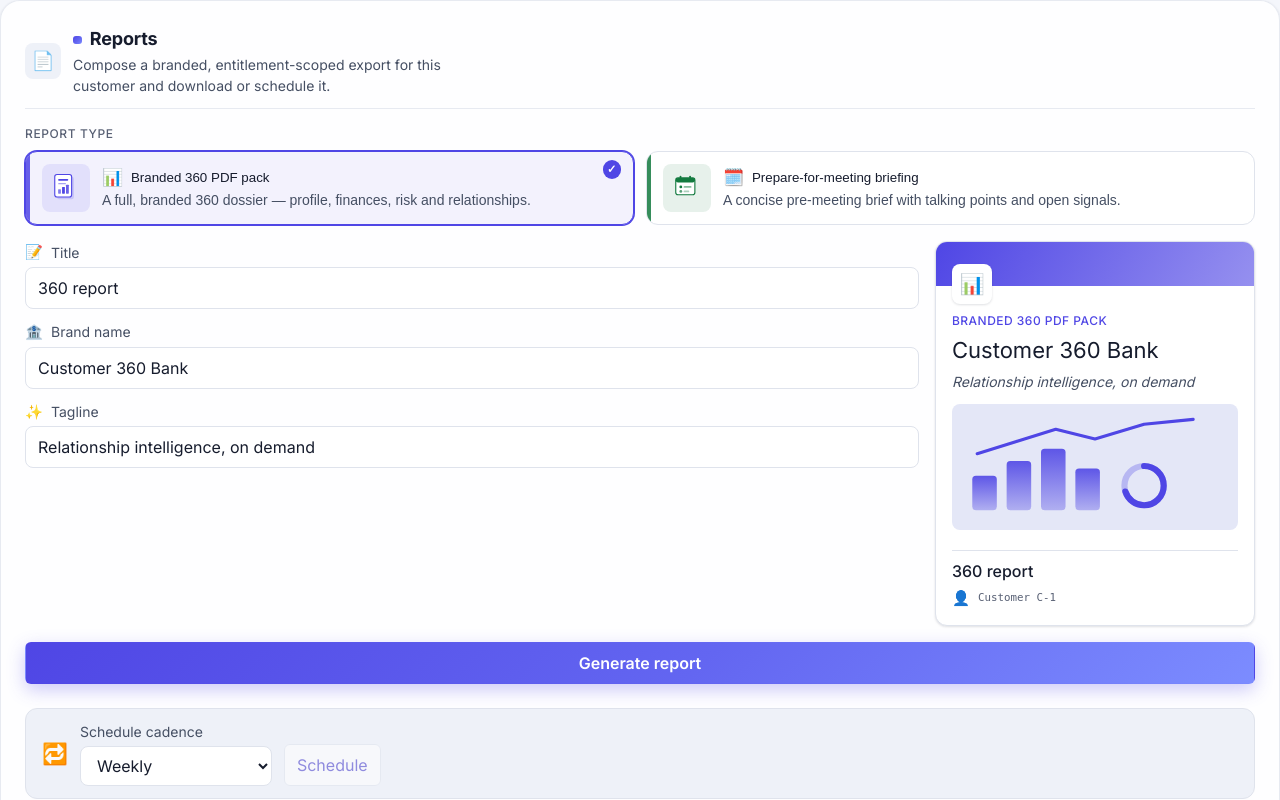
Scenario: ReportsPanel › shows the branding preview live as the fields change
Replace the text in the field labelled "Brand name" with "Acme Trust" at (472, 368), box [25, 347, 919, 389]
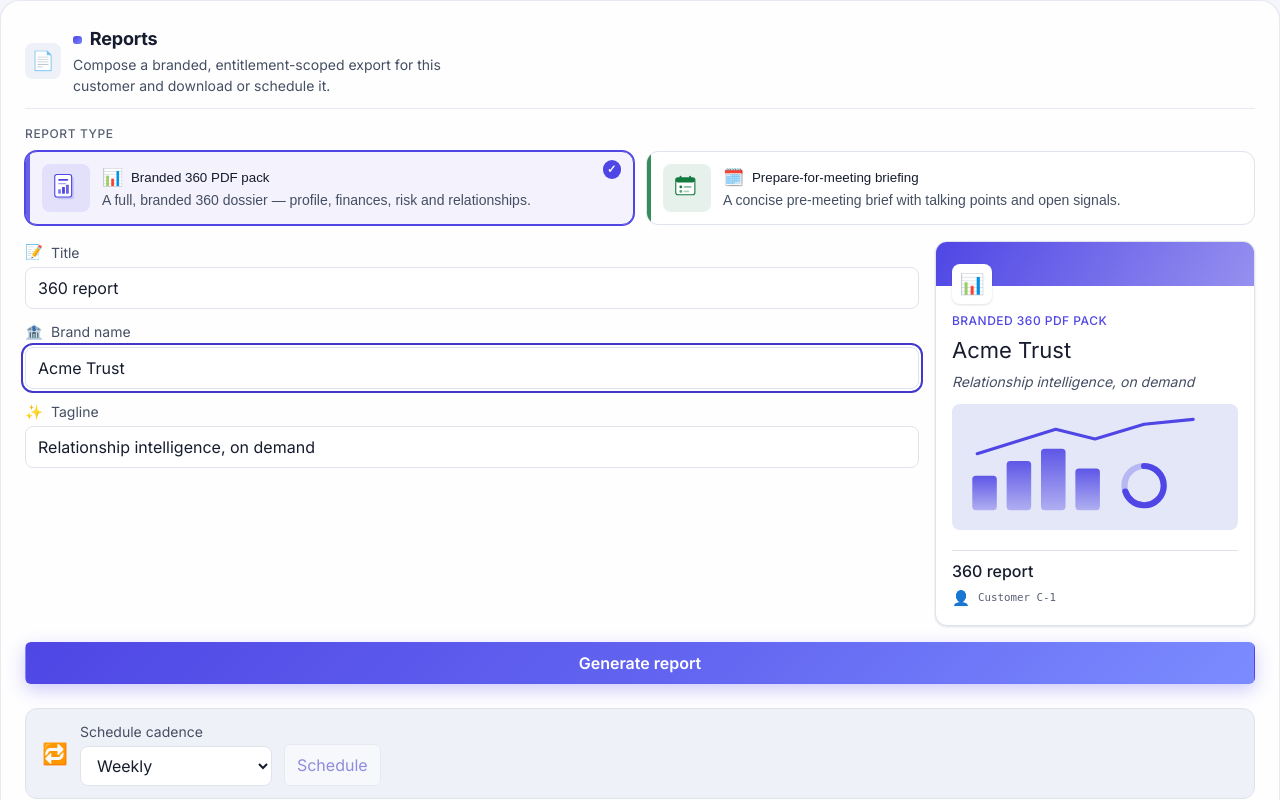
Expected: the element named "Branding preview" shows "Acme Trust", [952, 337, 1071, 363]
